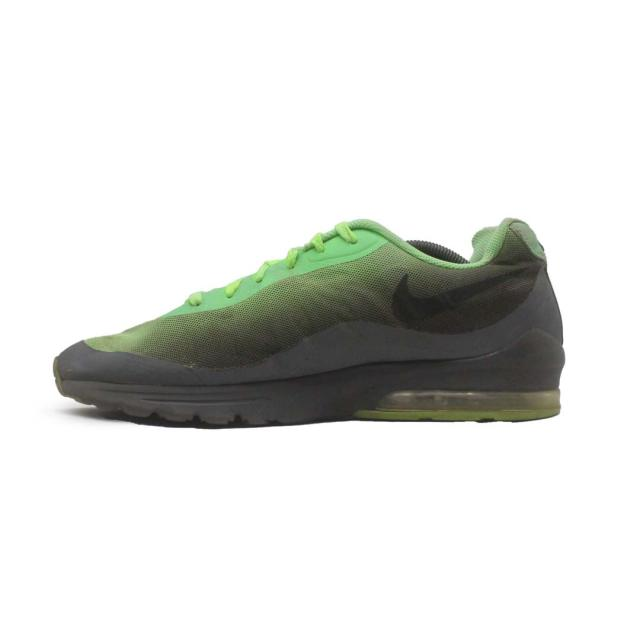heel: (492, 219, 562, 355)
midsole: (60, 332, 564, 425)
uppersole: (54, 222, 492, 385)
